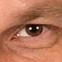eye: (26, 25, 43, 36)
